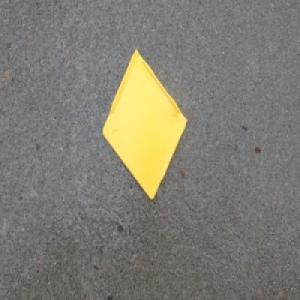PlasticPart: (101, 47, 188, 202)
